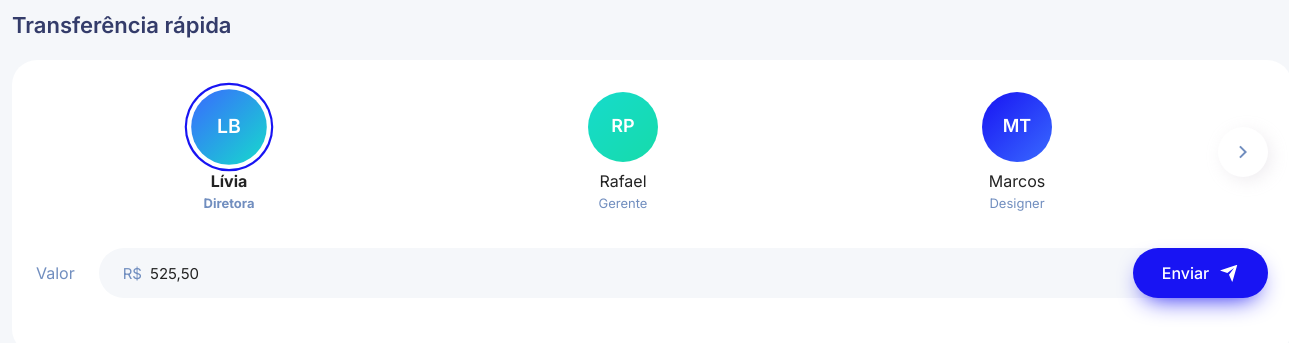
valor inválido não envia e explica
Replace the text in the field named "Valor em reais" with "abc" at (705, 273), box [142,248,1268,298]
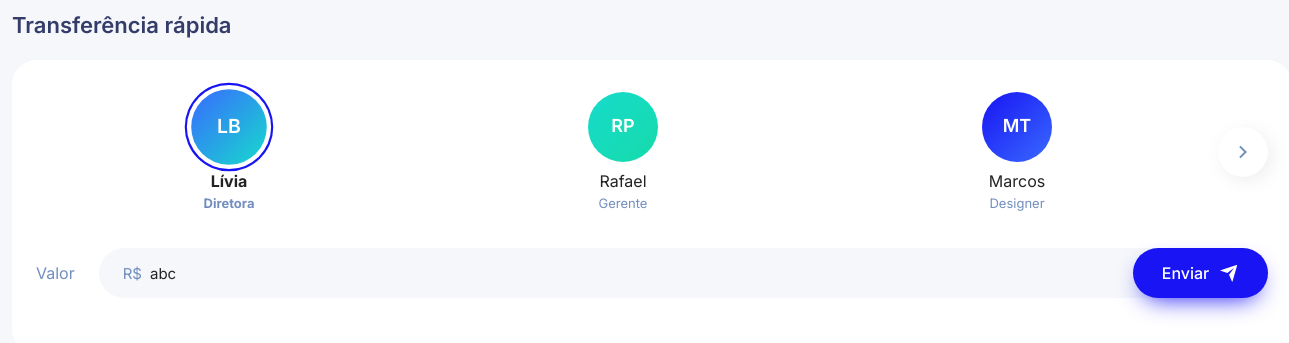
Click the button "Enviar" at (1200, 273), box [1133,248,1268,298]
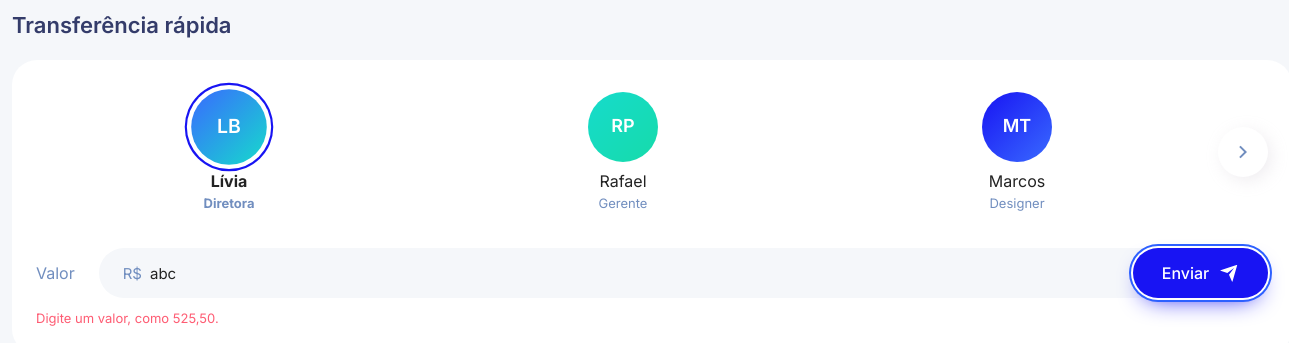
Now the message reads "Digite um valor, como 525,50.", box [36,310,219,326]
